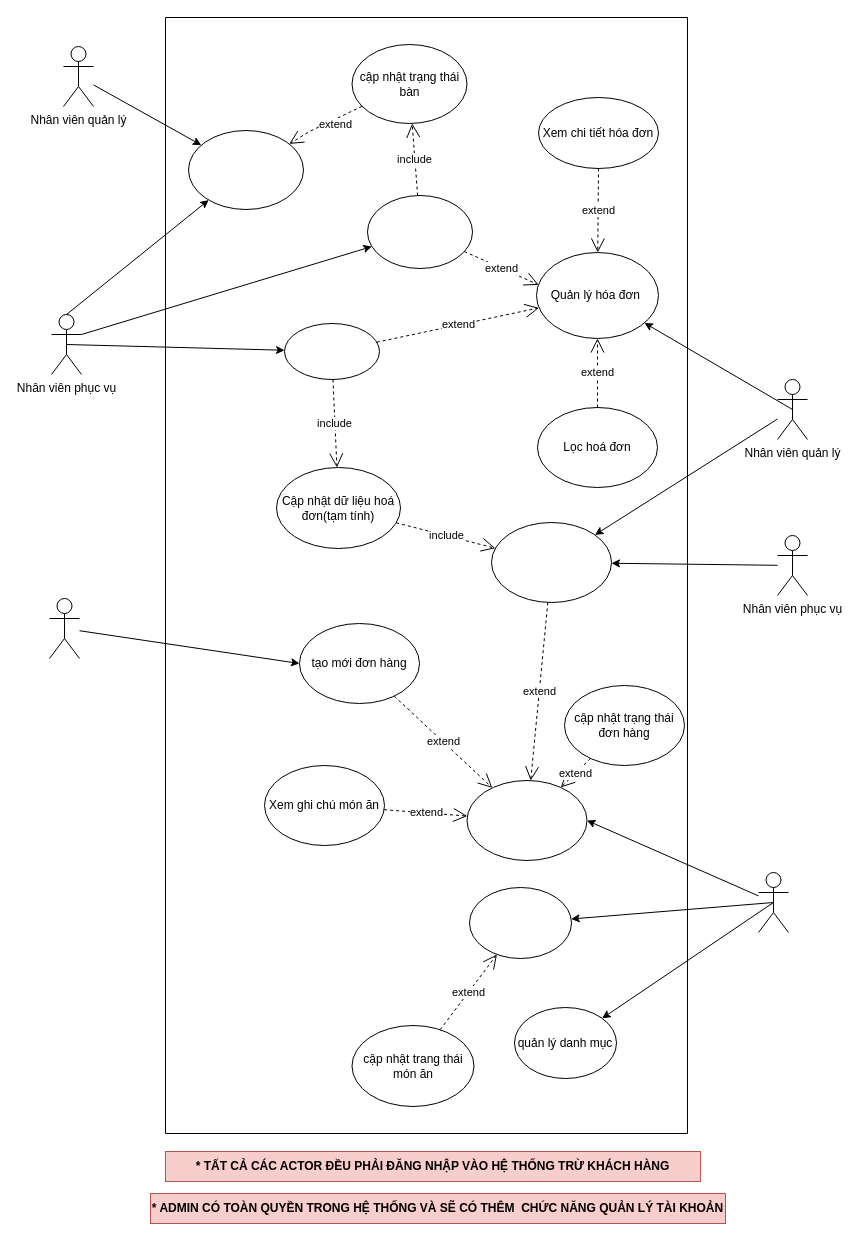
Some shapes in this 859 by 1241 pixel diagram are drawn without their labels. Each missing label, with the box of its shape:
Khách hàng: (48, 598, 80, 658)
Nhân viên bếp: (758, 872, 788, 932)
Quản lý bàn: (188, 130, 304, 210)
Quản lý món ăn: (468, 886, 572, 958)
quản lý đơn hàng: (466, 780, 587, 860)
Thanh toán: (284, 322, 380, 380)
Tạo hoá đơn: (366, 194, 472, 268)
đọc dữ liêu đơn hàng: (490, 522, 612, 602)
